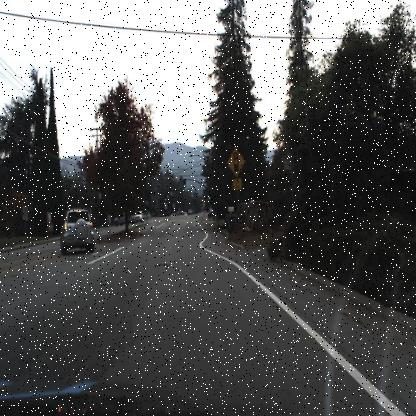car: (59, 209, 94, 253), (113, 209, 136, 227)
